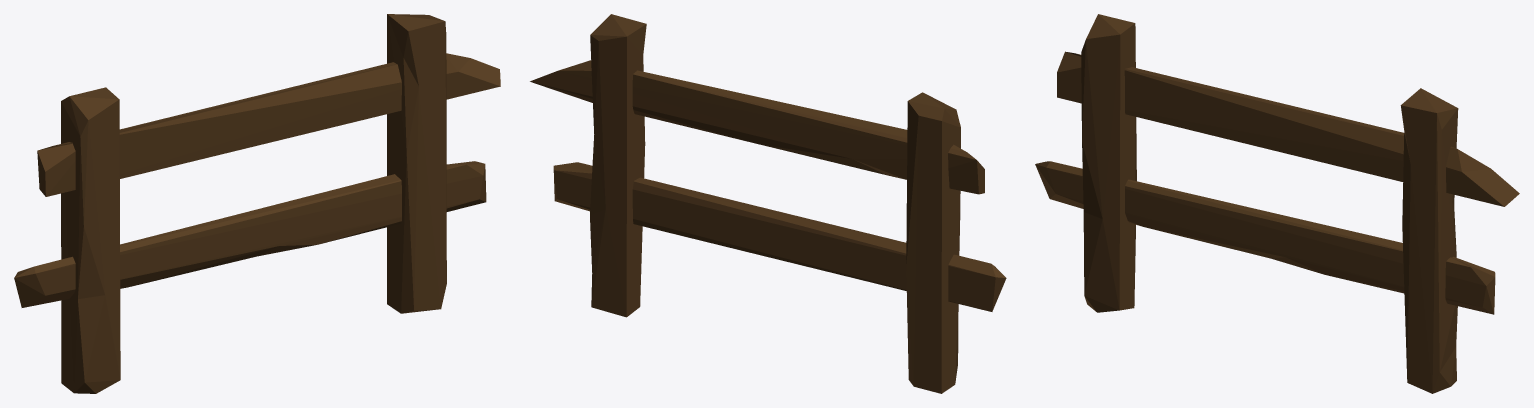
Rendered from SM_fence_01.fbx.
3 views of the same model, side by side, from view 1: azimuth 30°, elevation 25°; view 2: azimuth 150°, elevation 25°; view 3: azimuth 330°, elevation 25° (orthographic). The views are drawn at different scales.
Parts seen in each view (by area): view 1: Object2151; view 2: Object2151; view 3: Object2151.
Boxes of the visible parts, x1,y1,x2,y2 form: Object2151: (14, 14, 500, 393); Object2151: (530, 14, 1006, 393); Object2151: (1035, 14, 1519, 393).
Bounding box in the file's own units: 76.98 × 43.7 × 5.8.
